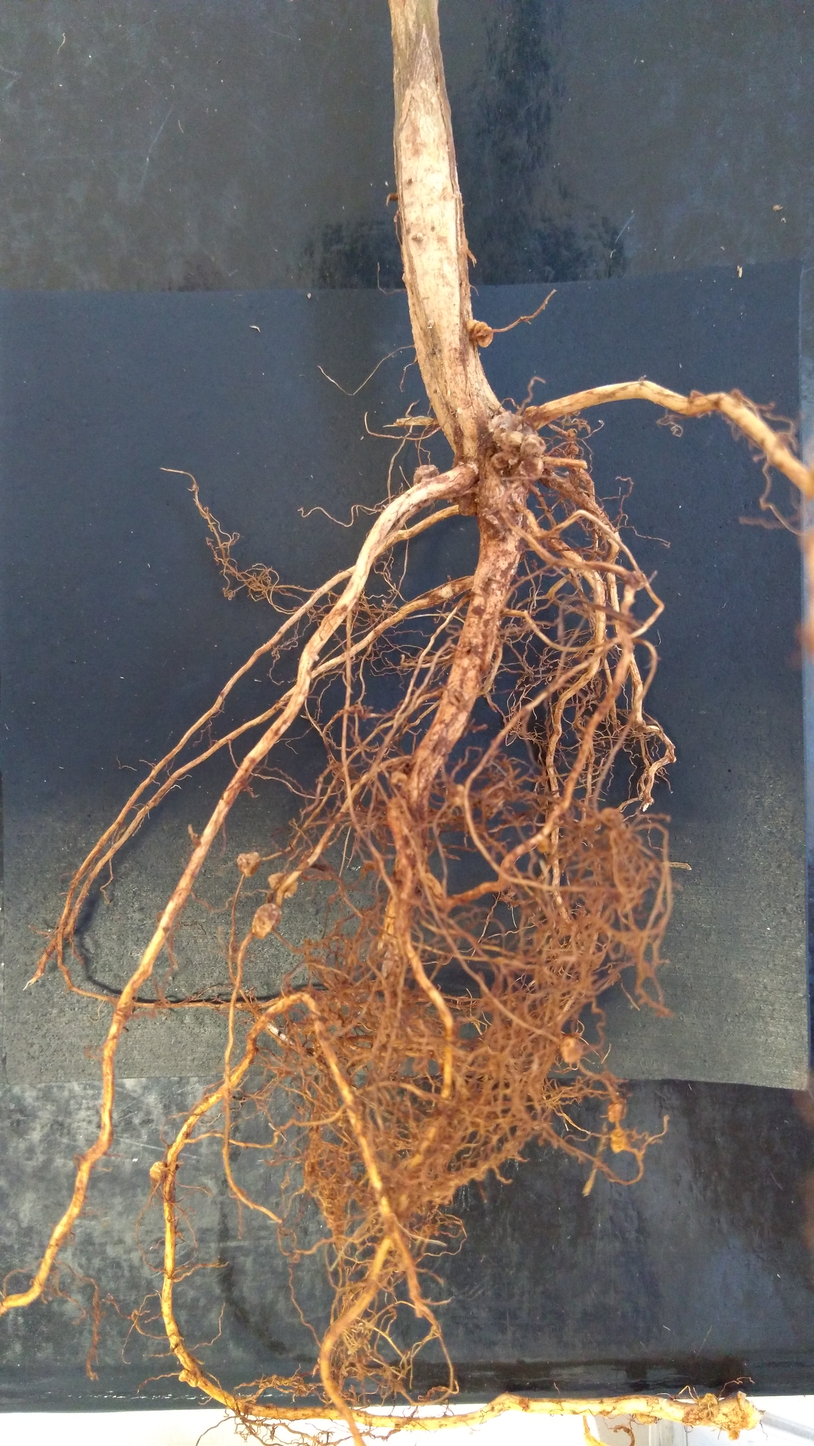nodule: (485, 407, 522, 454), (250, 899, 284, 941), (386, 796, 413, 839), (265, 871, 301, 901), (557, 1034, 587, 1068), (516, 455, 549, 484), (517, 432, 549, 461), (452, 491, 480, 524), (233, 851, 262, 879), (472, 321, 496, 352), (411, 463, 444, 485), (606, 1126, 629, 1156), (148, 1156, 168, 1189), (176, 1366, 202, 1391), (488, 450, 517, 472), (534, 832, 558, 858), (604, 1098, 625, 1125), (698, 1392, 722, 1411), (447, 781, 463, 807), (464, 318, 481, 331)
